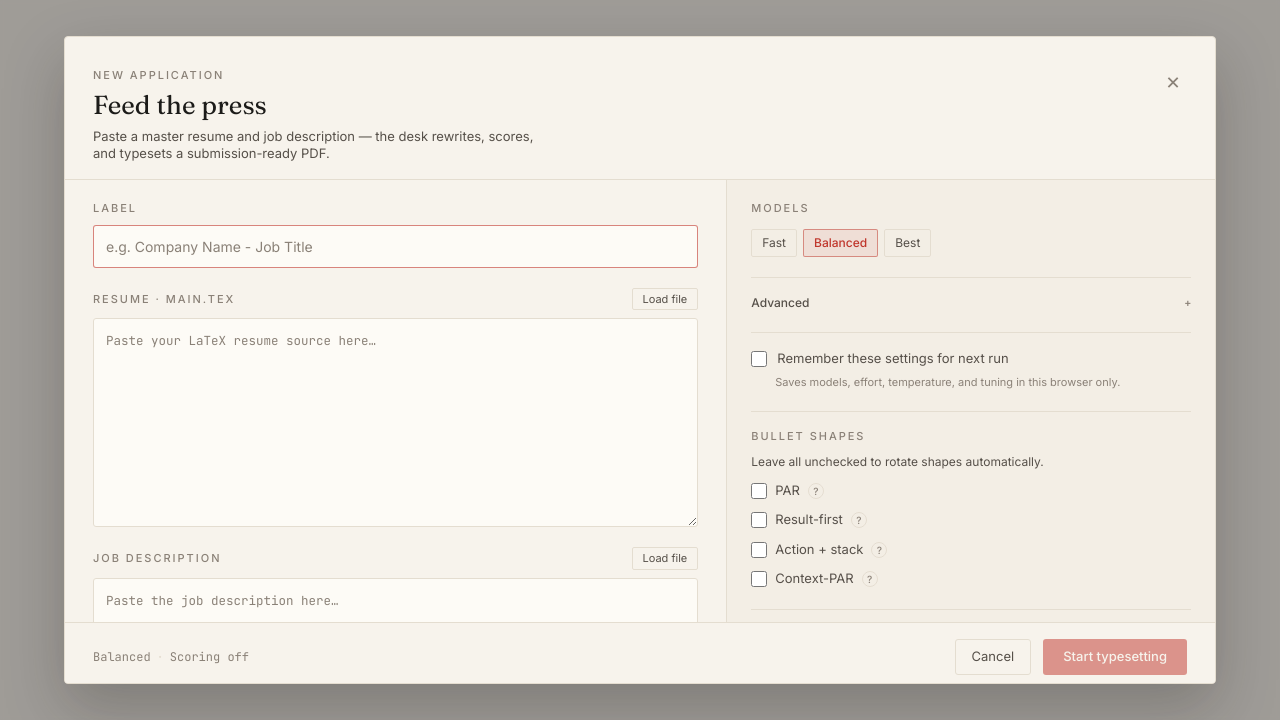
Test: NewJobModal › shows skills and scoring model pickers in advanced without enabling scoring
This screenshot has width=1280, height=720.
Expected: the element named "model presets" is shown, [751,229,931,257]
Click the button "Advanced +" at (780, 302), box [751,294,1191,312]
(page scrolled)
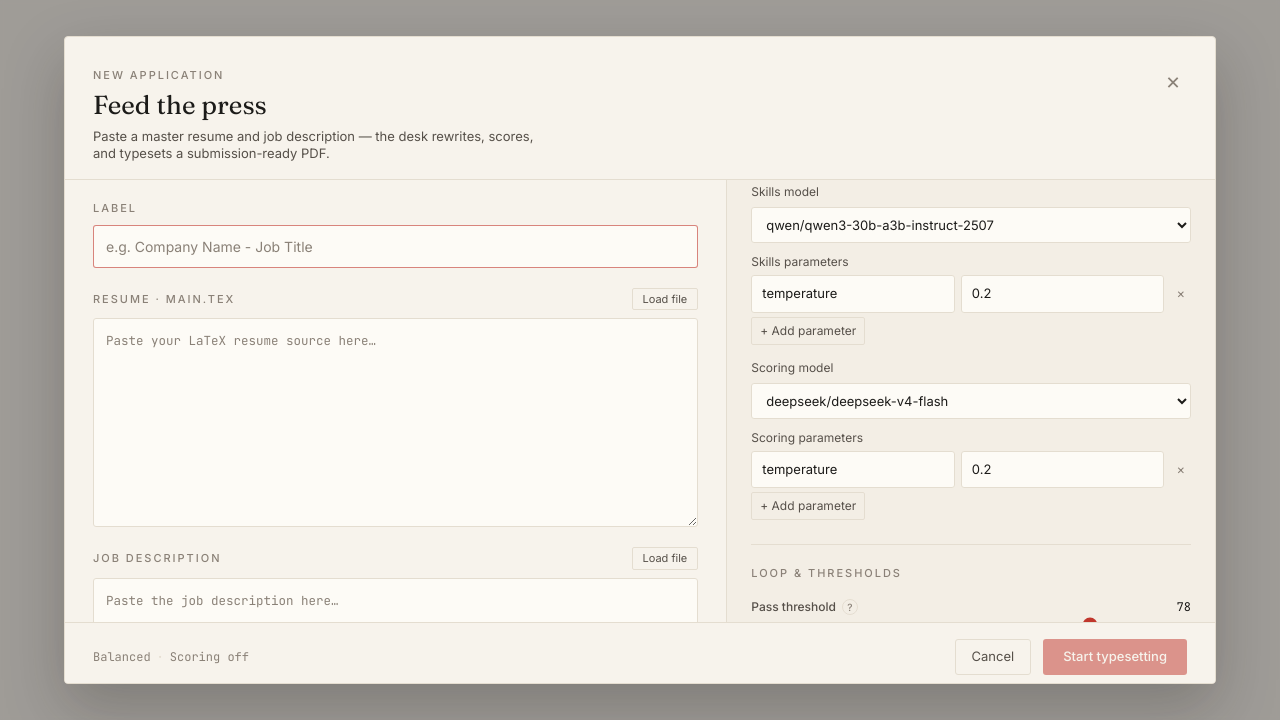
Now the dropdown labelled "Skills model" is shown, box [751,207,1191,243]
Now the dropdown labelled "Scoring model" is shown, box [751,383,1191,419]
